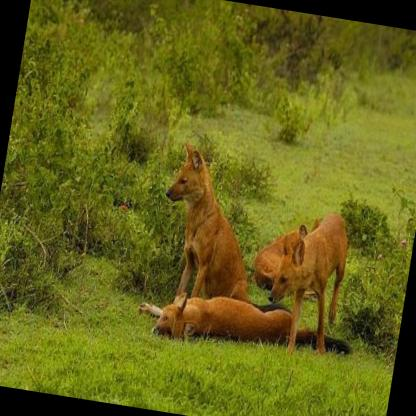dhole: (129, 276, 359, 367), (149, 138, 268, 302), (261, 202, 354, 358), (249, 209, 330, 302)
